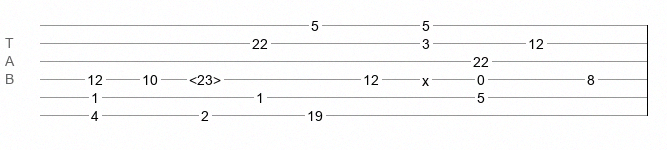0: (477, 72, 485, 82)
1: (91, 90, 99, 100), (256, 90, 264, 100)
10: (142, 72, 158, 82)
12: (87, 72, 103, 82), (363, 72, 379, 82), (528, 36, 544, 46)
19: (307, 108, 323, 118)
2: (201, 108, 209, 118)
22: (252, 36, 268, 46), (473, 54, 489, 64)
3: (422, 36, 430, 46)
4: (91, 108, 99, 118)
5: (311, 18, 319, 28), (422, 18, 430, 28), (477, 90, 485, 100)
8: (587, 72, 595, 82)
harmonic: (189, 72, 221, 82)
x: (422, 73, 429, 81)
